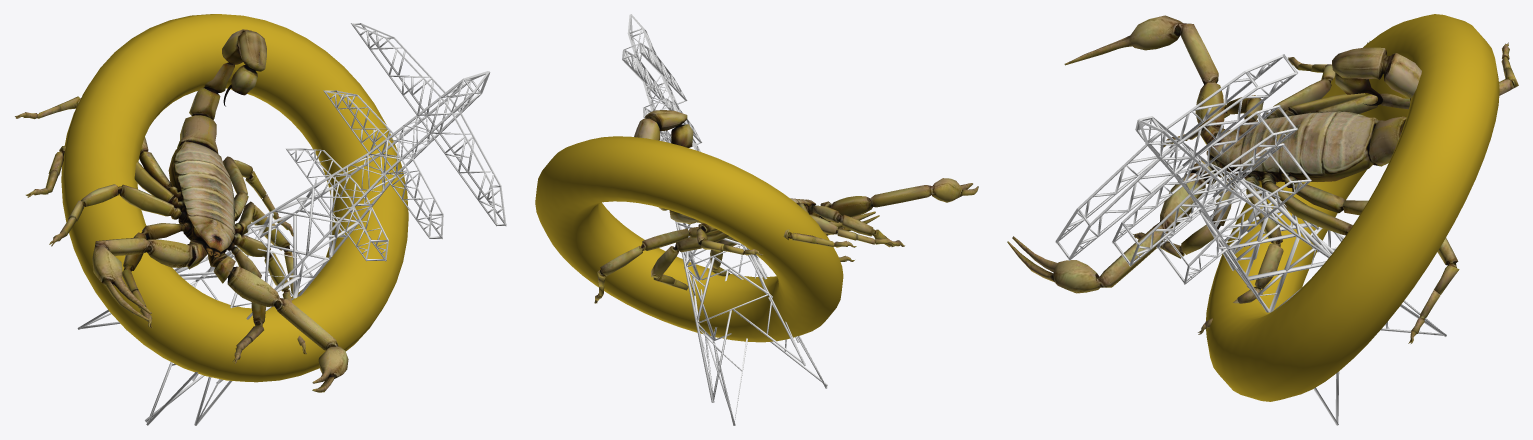
Rendered from world_3.glb.
The picture shows the model from 3 angles, left to right: view 1: azimuth 30°, elevation 25°; view 2: azimuth 150°, elevation 25°; view 3: azimuth 270°, elevation 25°; orthographic projection. The views are drawn at different scales.
Parts seen in each view (by area): view 1: GLB_03; view 2: GLB_03; view 3: GLB_03.
Part boxes in pixels (left/top/right/bottom): GLB_03: left=15, top=14, right=506, bottom=425; GLB_03: left=535, top=14, right=978, bottom=425; GLB_03: left=1007, top=14, right=1518, bottom=425.
Size of the model in its own units: 0.5025 by 0.4771 by 0.497.
3 materials, 1 textured.
